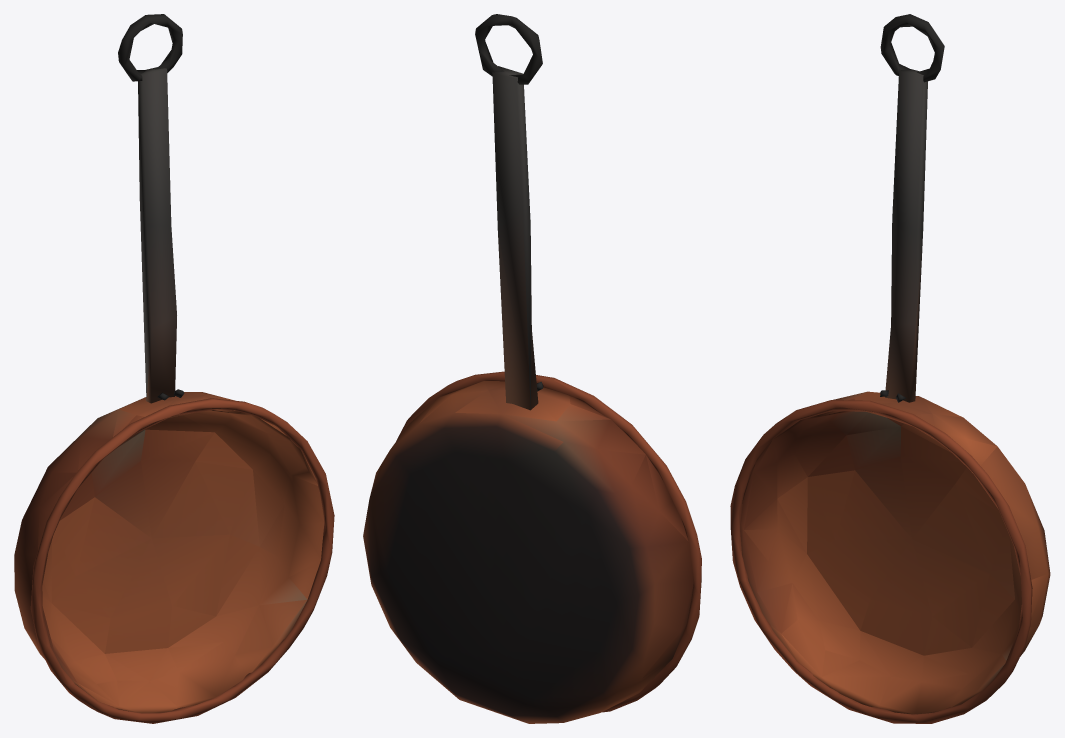
File: ember_copper_pan_lod2.glb
3 views of the same model, side by side, from view 1: azimuth 30°, elevation 25°; view 2: azimuth 150°, elevation 25°; view 3: azimuth 330°, elevation 25° (orthographic). The views are drawn at different scales.
Parts seen in each view (by area): view 1: ember_copper_pan.001; view 2: ember_copper_pan.001; view 3: ember_copper_pan.001.
Part boxes in pixels (<box>): ember_copper_pan.001: <box>14,14,334,723</box>; ember_copper_pan.001: <box>363,14,701,723</box>; ember_copper_pan.001: <box>730,14,1050,723</box>.
Size of the model in its own units: 18.72 by 40.45 by 4.6.
